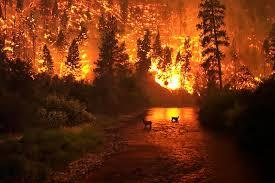fire: (0, 1, 275, 90)
